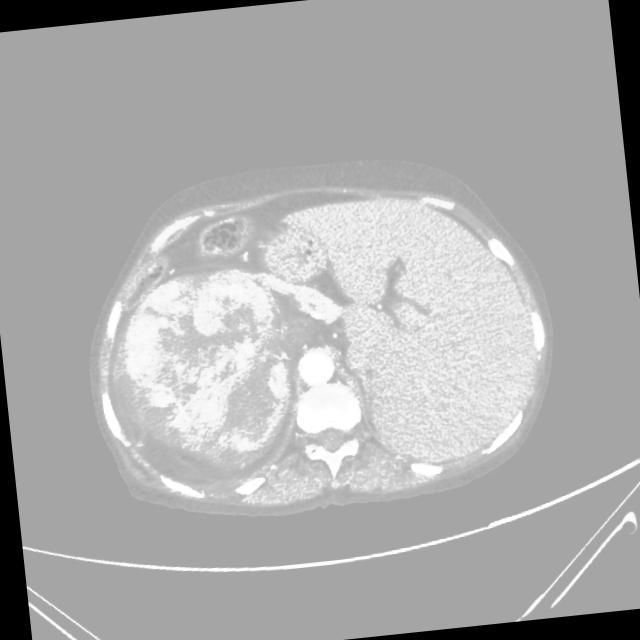TUMOR: (79, 253, 329, 474)
